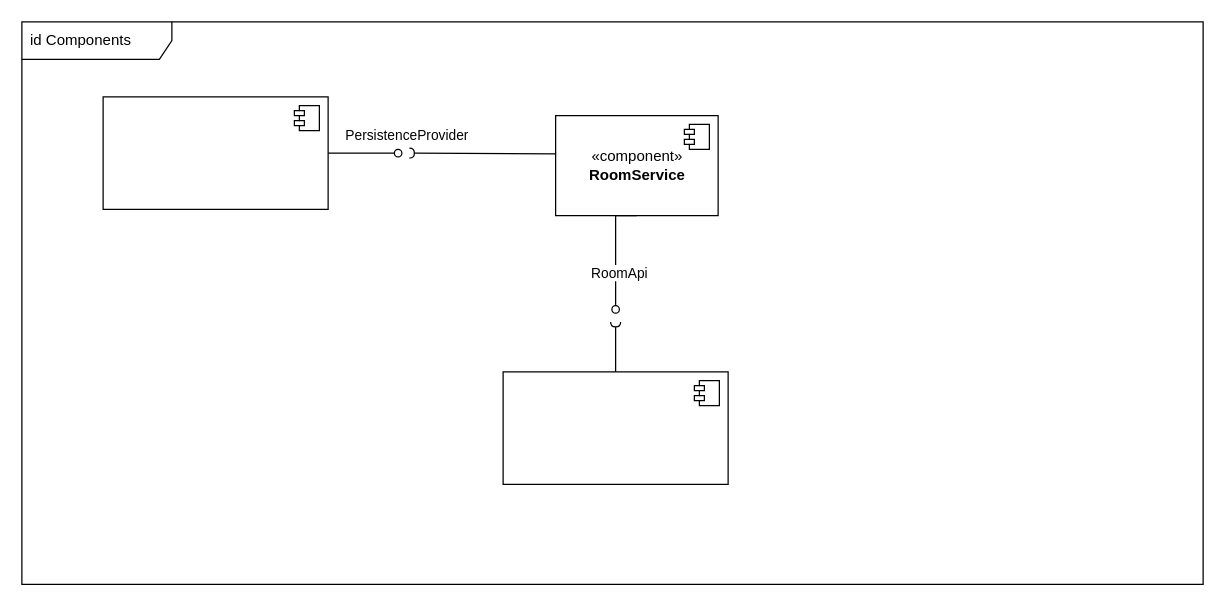
Some shapes in this 1225 by 606 pixel diagram are drawn without their labels. Each missing label, with the centre of its shape:
"«component» Database" belongs at [215,152].
"«component» Web Application" belongs at [615,427].
